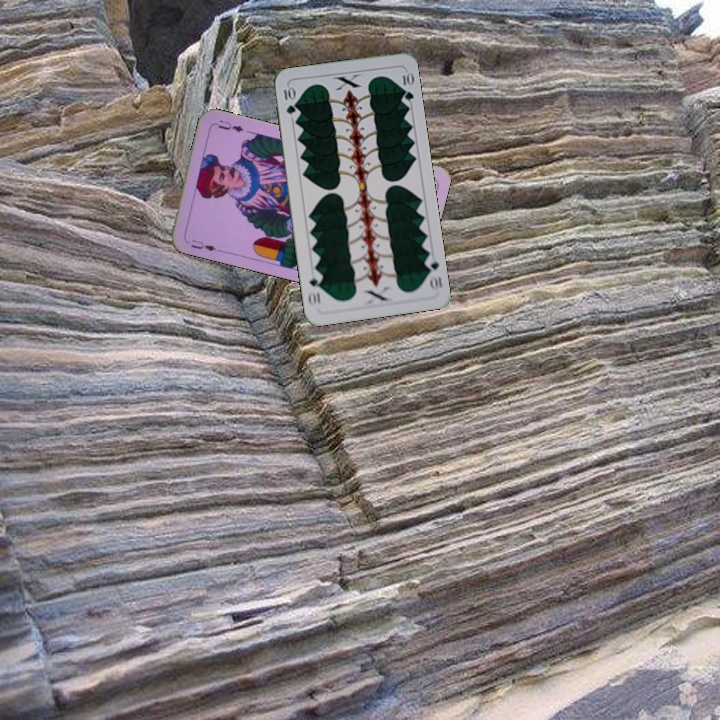EU: (182, 236, 218, 254)
G10: (421, 252, 445, 293), (279, 83, 298, 117)
